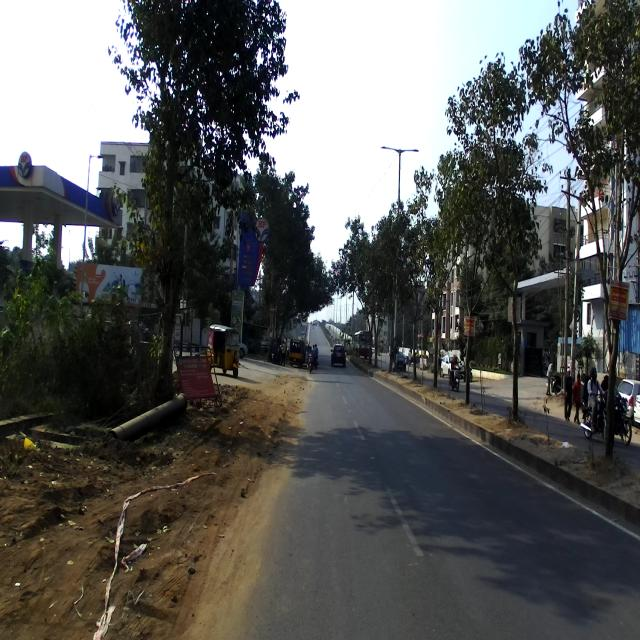barrier ahead at: (174, 346, 222, 415)
